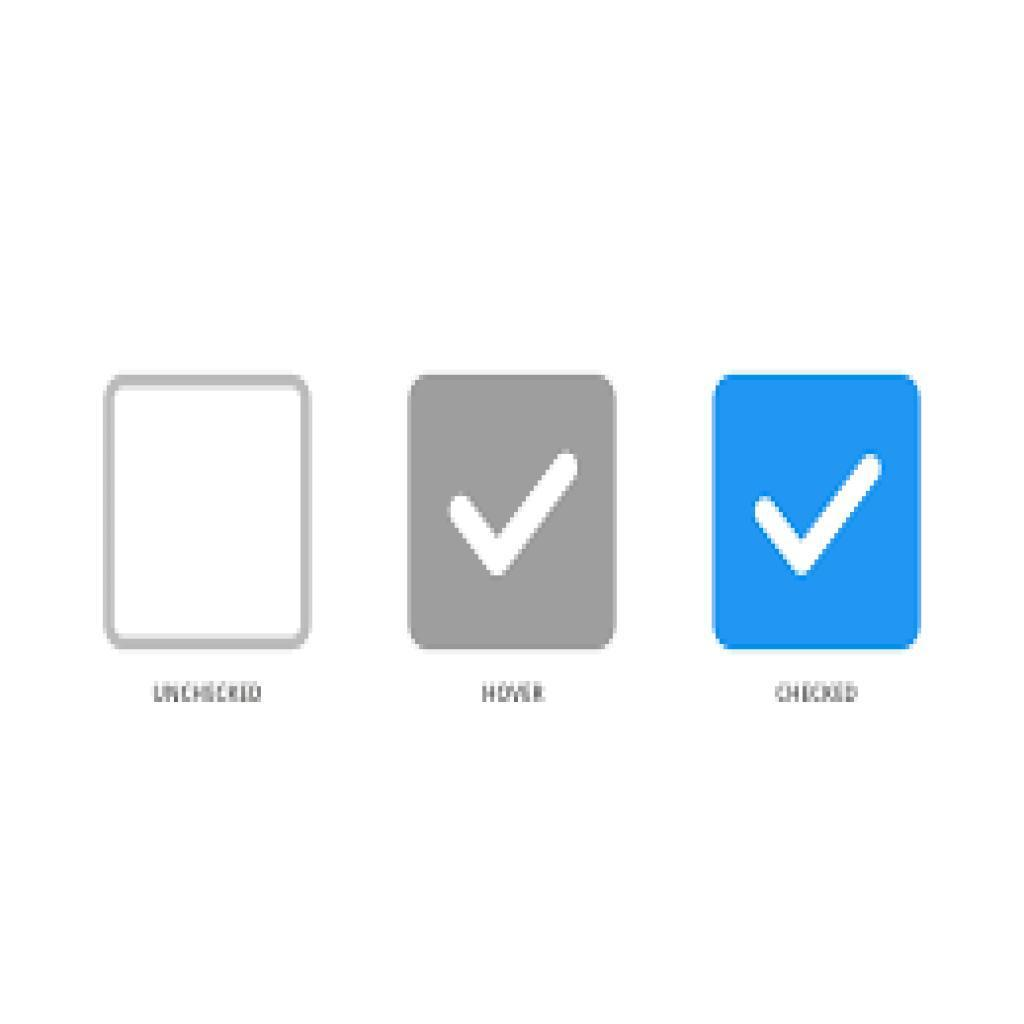checkbox: (412, 376, 619, 650), (715, 375, 922, 649), (106, 376, 311, 647)
